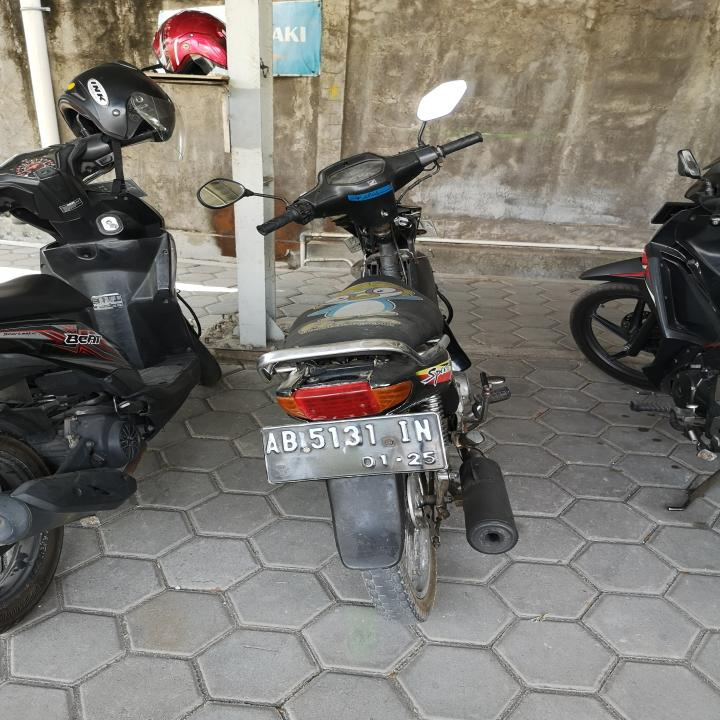plate: (258, 412, 452, 487)
